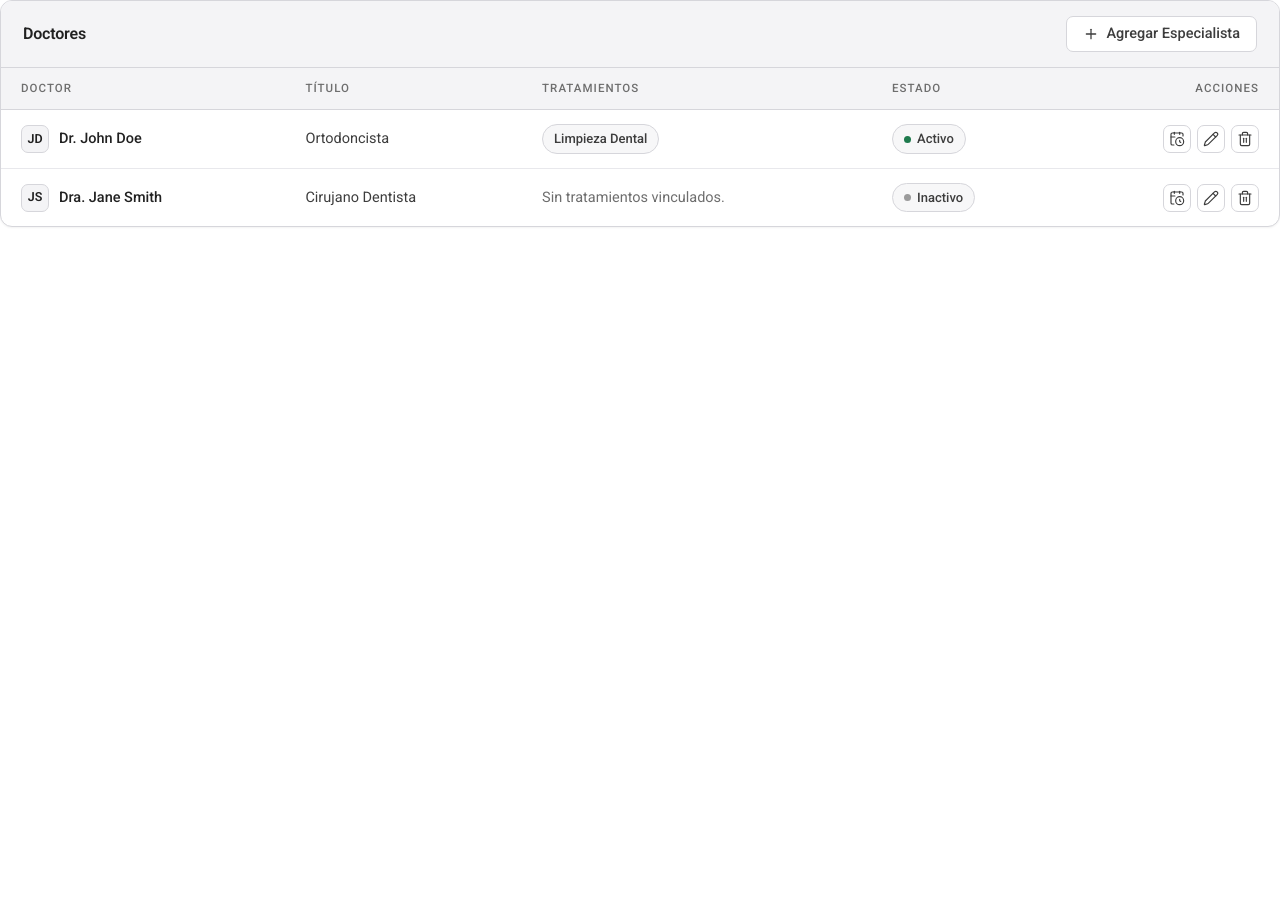
Test case: DoctorsManager — UI & Validation Integration (Fase 6.3) › blocks submit and shows alert message if required doctor name is empty
Click the button "Agregar Especialista" at (1162, 34), box [1066, 16, 1257, 52]
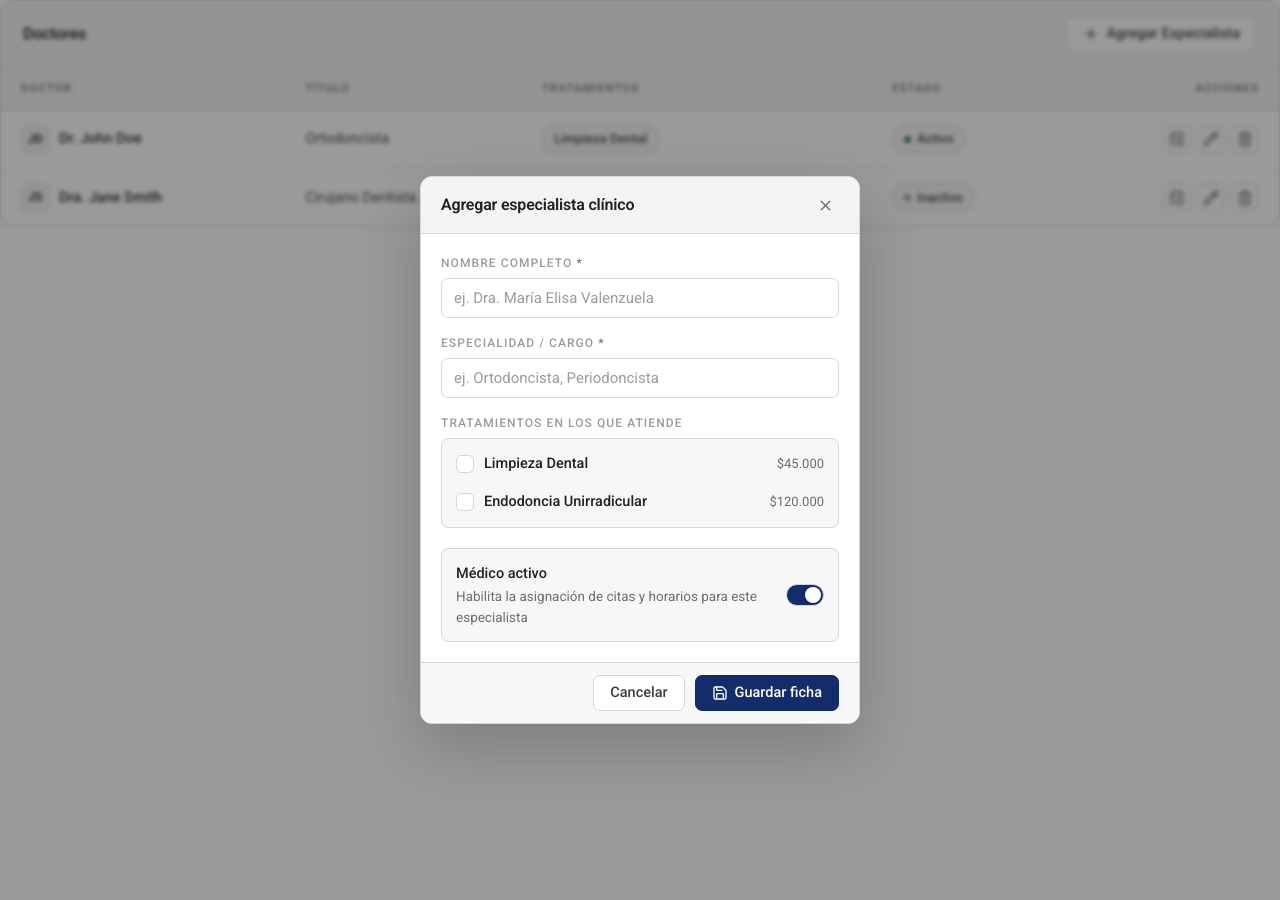
Submit the form named "doctor-form", box [441, 254, 839, 642]
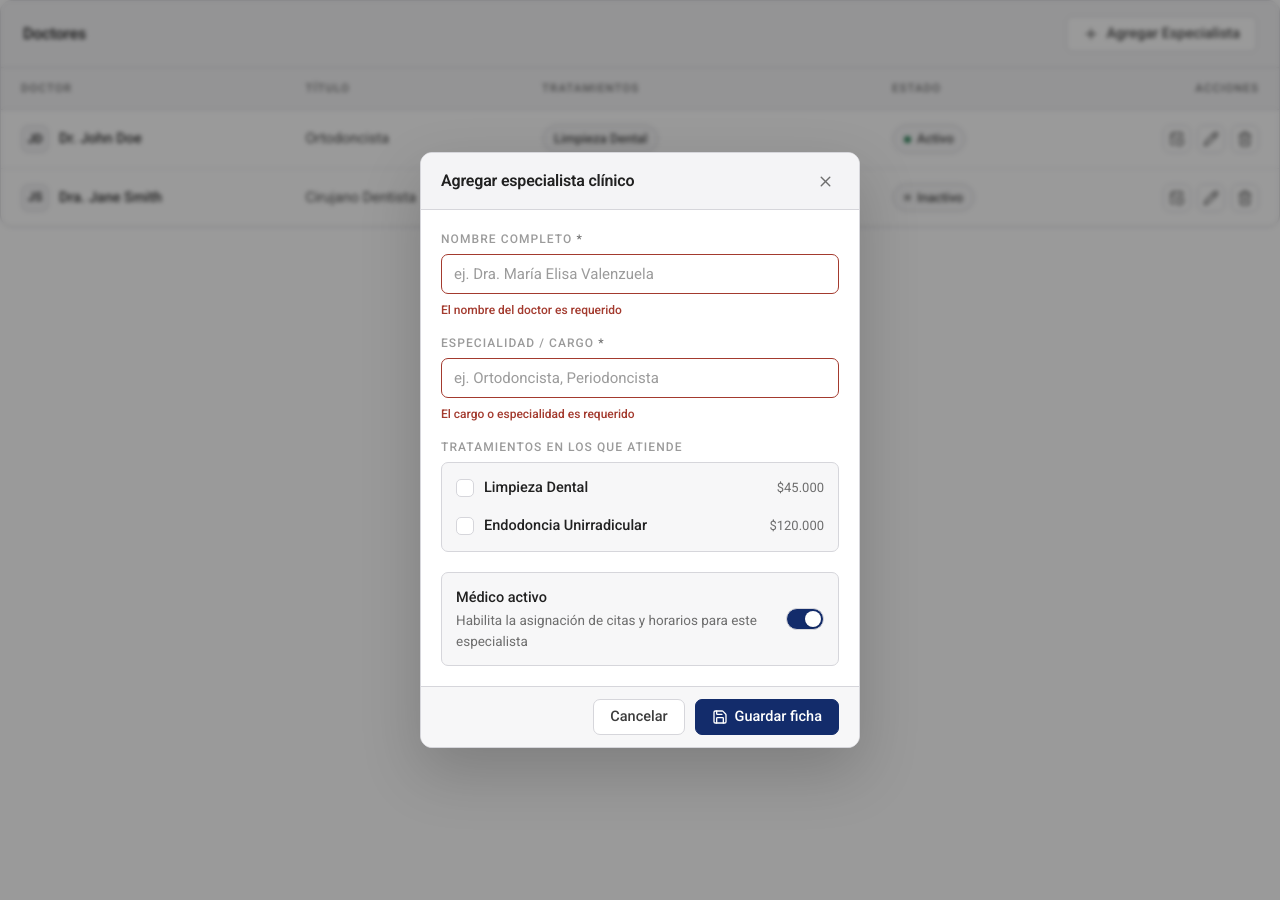
Now the text "El nombre del doctor es requerido" is shown, box [441, 303, 622, 317]
